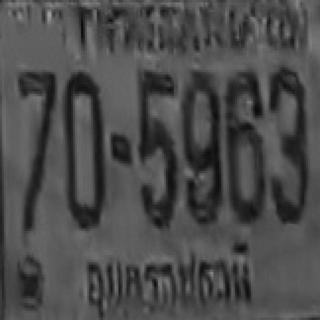N00: (63, 70, 105, 224), (63, 70, 105, 197)
N03: (268, 67, 307, 221), (269, 87, 308, 221)
N07: (17, 70, 56, 168)
N09: (181, 85, 220, 223), (181, 102, 222, 223)
P72: (78, 241, 256, 317)
